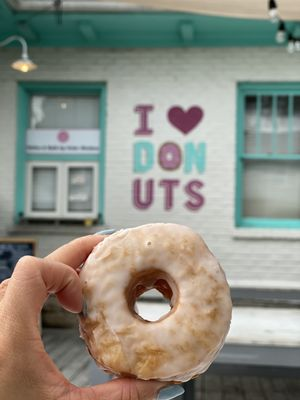salad: (77, 223, 233, 383)
